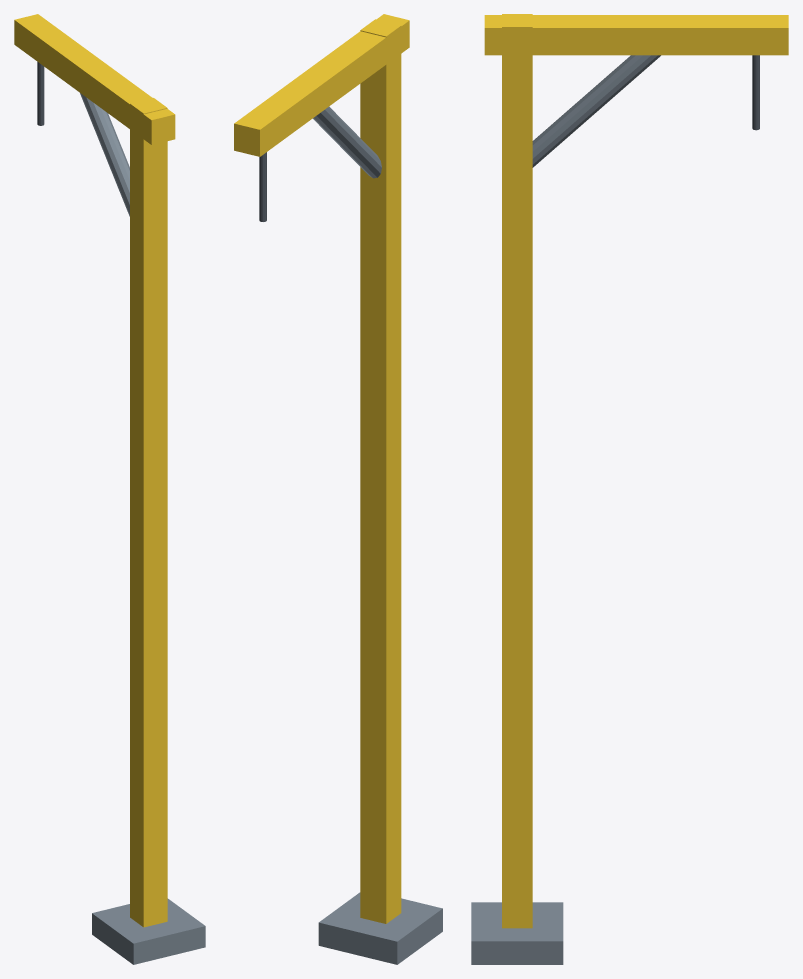
File: piano_support.glb
3 renders of one model, left to right at view 1: azimuth 30°, elevation 25°; view 2: azimuth 150°, elevation 25°; view 3: azimuth 270°, elevation 25°, orthographic. The views are drawn at different scales.
Visible parts, largest first — view 1: Crane_mast, Overhead_beam, Crane_base, Support_brace, Suspension_rope; view 2: Crane_mast, Overhead_beam, Crane_base, Support_brace, Suspension_rope; view 3: Crane_mast, Overhead_beam, Crane_base, Support_brace.
Boxes of the visible parts, x1,y1,x2,y2 form: Crane_mast: (130, 98, 167, 927); Overhead_beam: (14, 14, 175, 144); Crane_base: (92, 898, 205, 964); Support_brace: (80, 93, 129, 216); Suspension_rope: (37, 62, 44, 125); Crane_mast: (360, 19, 401, 923); Overhead_beam: (234, 14, 409, 156); Crane_base: (318, 892, 442, 964); Support_brace: (313, 106, 381, 178); Suspension_rope: (259, 152, 266, 221); Crane_mast: (502, 14, 532, 928); Overhead_beam: (484, 15, 788, 55); Crane_base: (471, 902, 563, 964); Support_brace: (532, 55, 660, 167).
Size of the model in its own units: 0.85 by 9.4 by 2.93.
